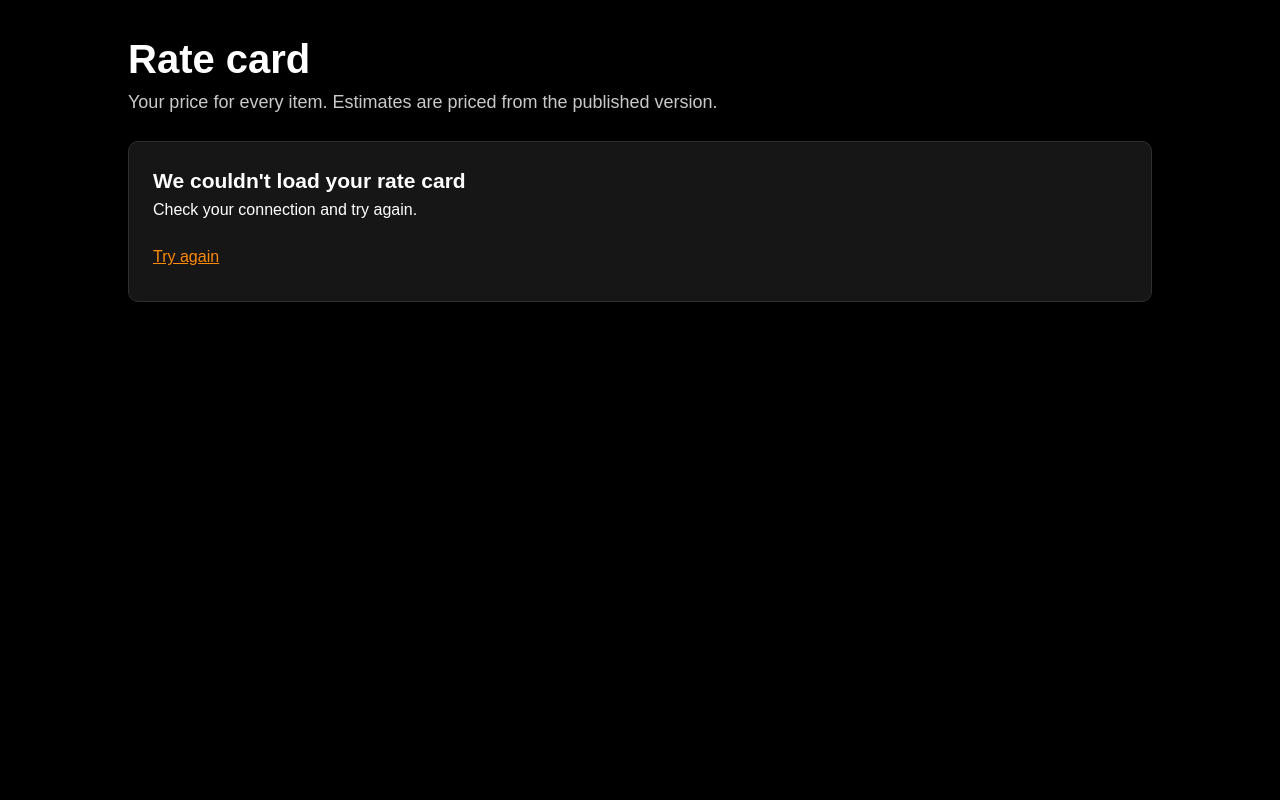
Test: Rate card page (#35) › offers a retry when the rate card can't be loaded
Expected: the heading "We couldn't load your rate card" is shown, 153,169 -> 466,192
Click the button "Try again": click(186, 257) 153,235 -> 219,279
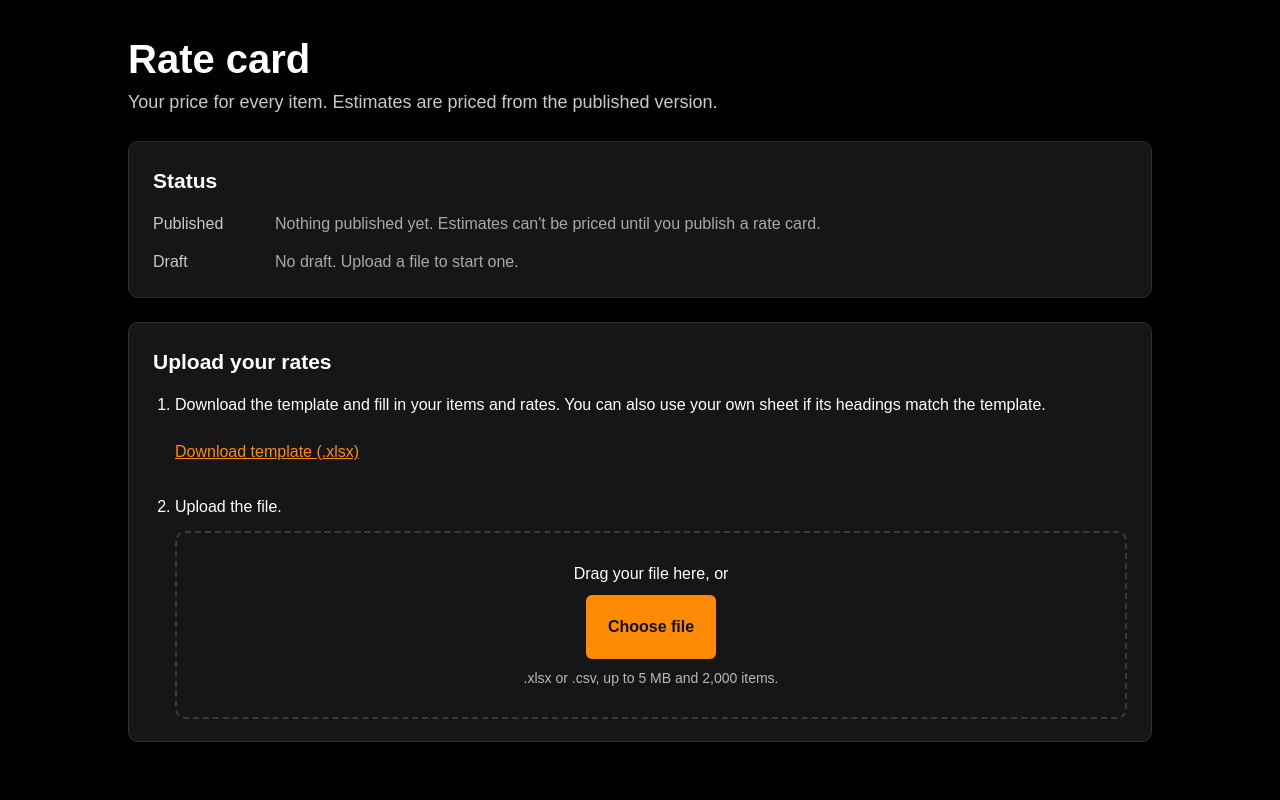
Expected: the heading "Status" is shown, 153,169 -> 217,192
